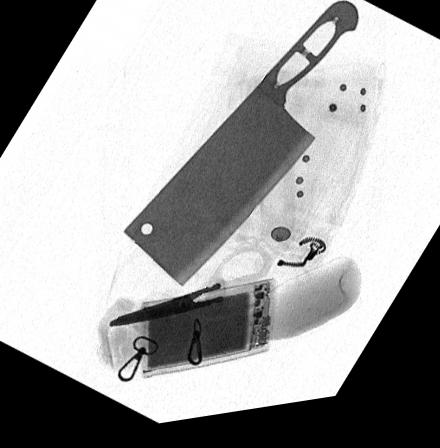Knife: (124, 12, 356, 291)
Powerbank: (140, 287, 274, 381)
Scissors: (106, 251, 272, 332)
